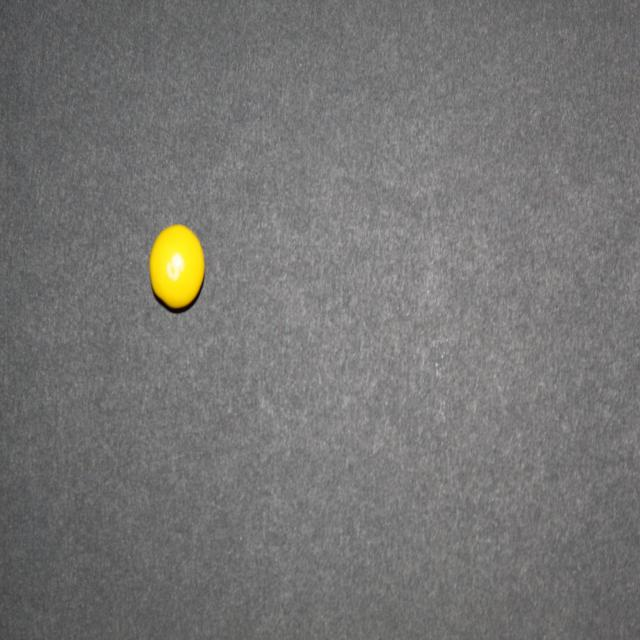smartie: (148, 225, 208, 317)
